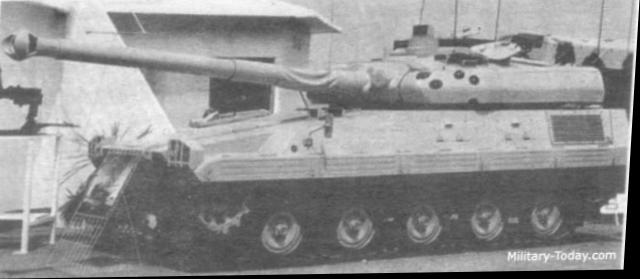tank: (121, 49, 625, 251)
